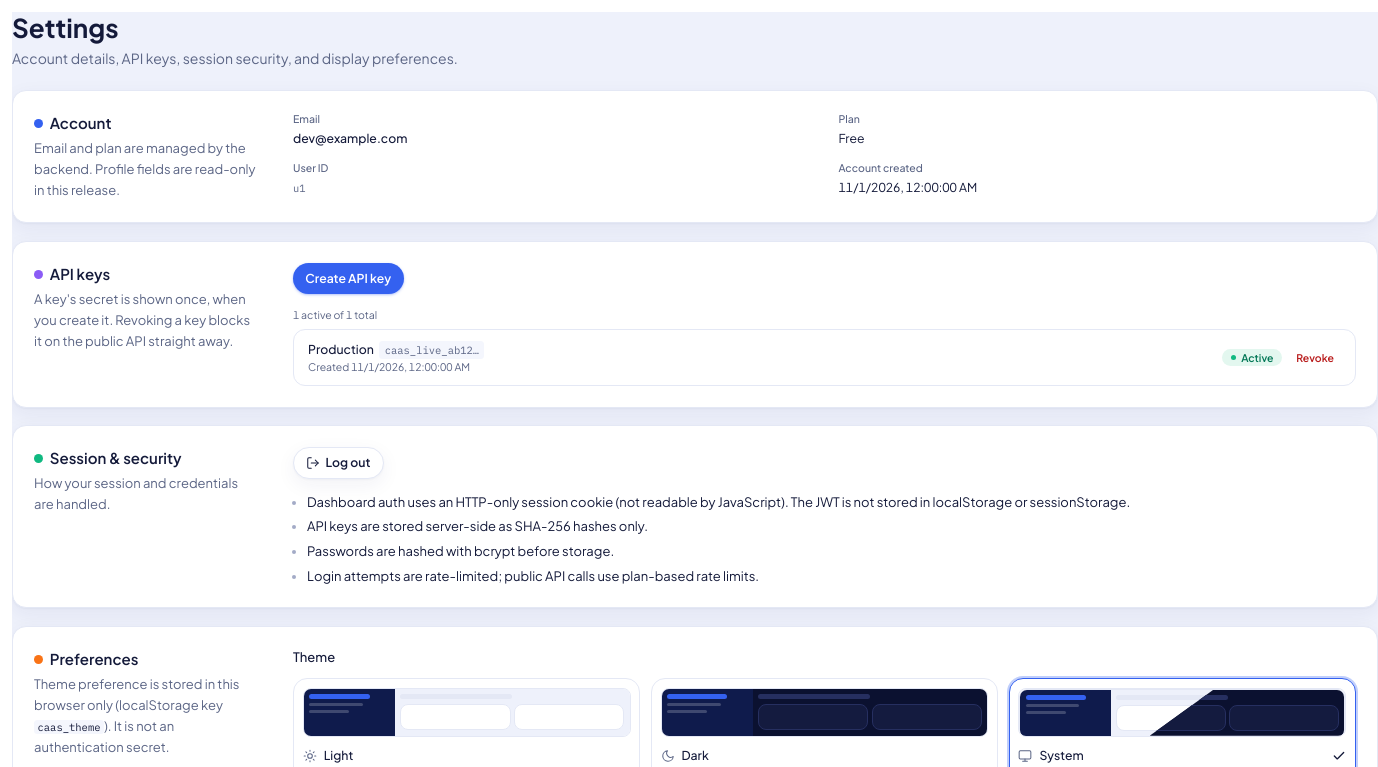
Test: Settings › creates a key and shows one-time secret
The width and height of the screenshot is (1378, 767).
Expected: the text "Production caas_live_ab12…" is shown, x1=308 y1=341 x2=484 y2=358
Click the button "Create API key": (348, 279) x1=293 y1=263 x2=404 y2=294
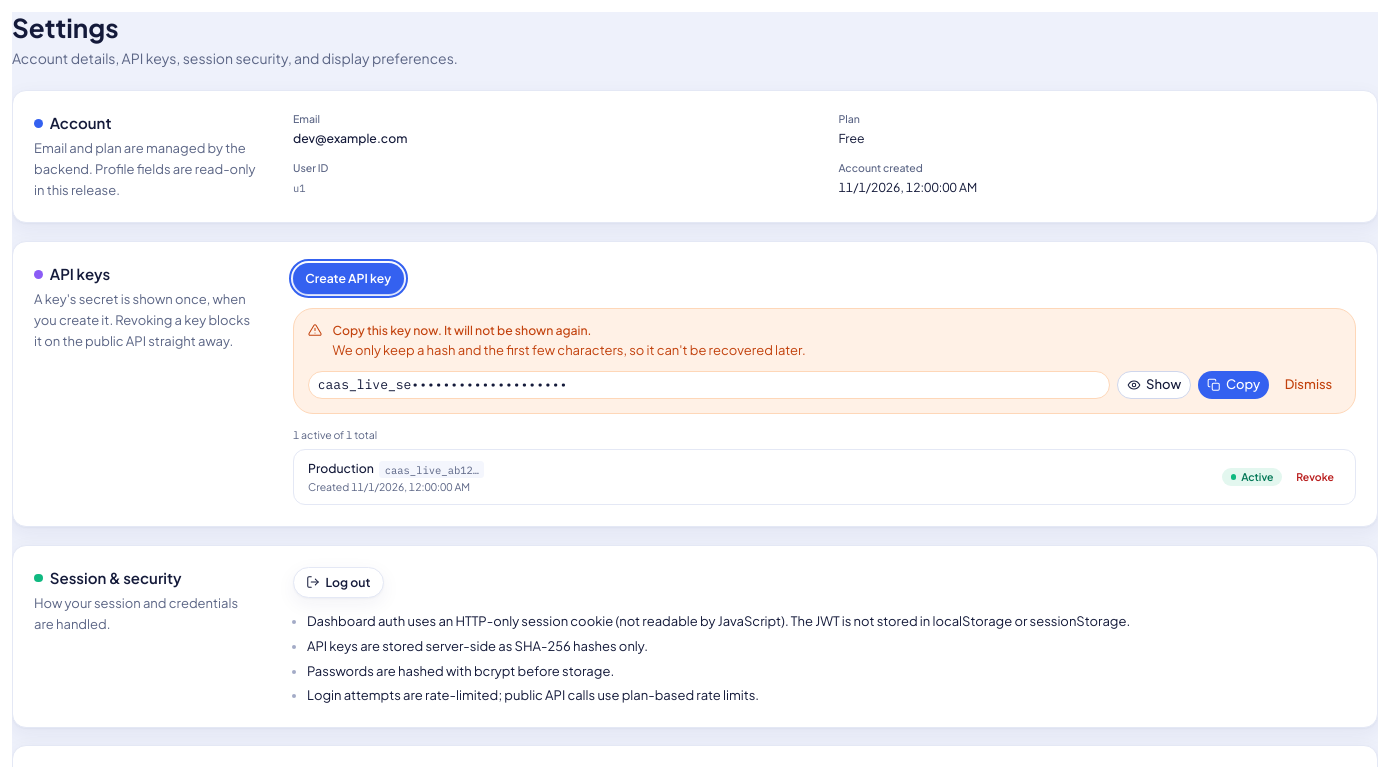
Expected: the text "Copy this key now. It will not be shown again." is shown, x1=332 y1=322 x2=592 y2=338
